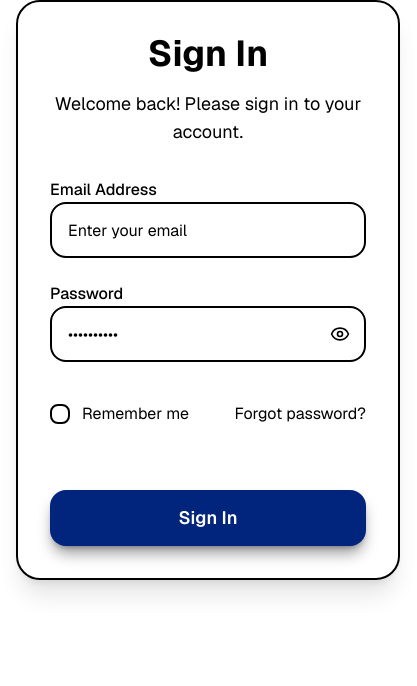
Test case: LoginForm › shows validation error for short password
The width and height of the screenshot is (417, 686).
Type "test@example.com" into the field with placeholder "Enter your email" at (208, 230), box [50,202,366,258]
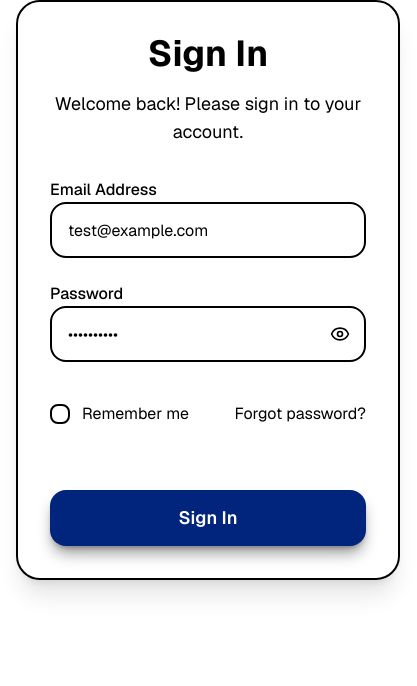
Type "123" into the password field with placeholder "••••••••••" at (208, 334), box [50,306,366,362]
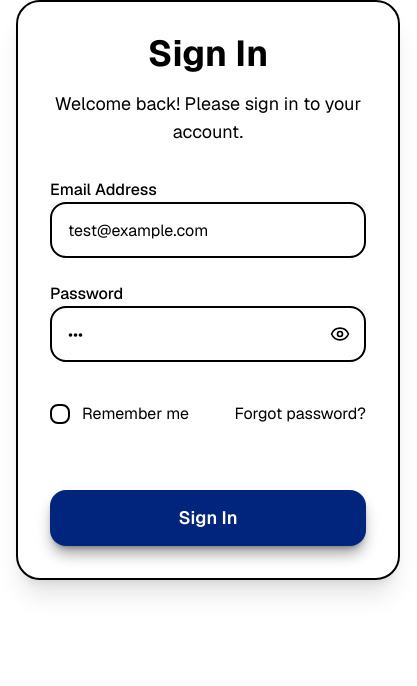
Click the button "Sign In" at (208, 518), box [50,490,366,546]
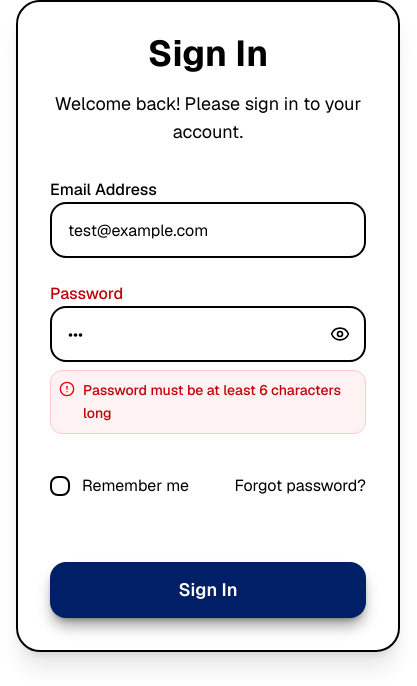
Check: the text "Password must be at least 6 characters long" is shown, box [83,379,357,424]
